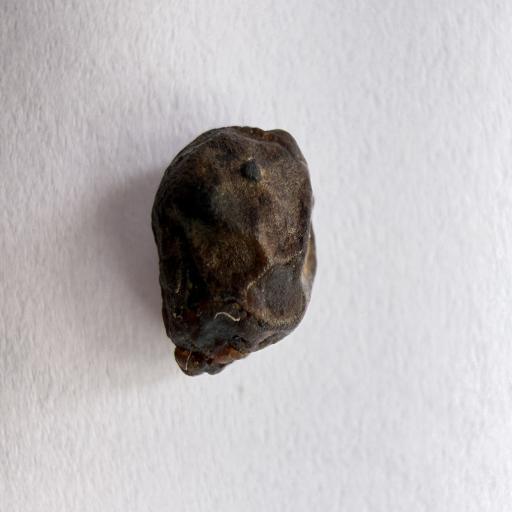Black_pepper: (136, 102, 342, 426)
